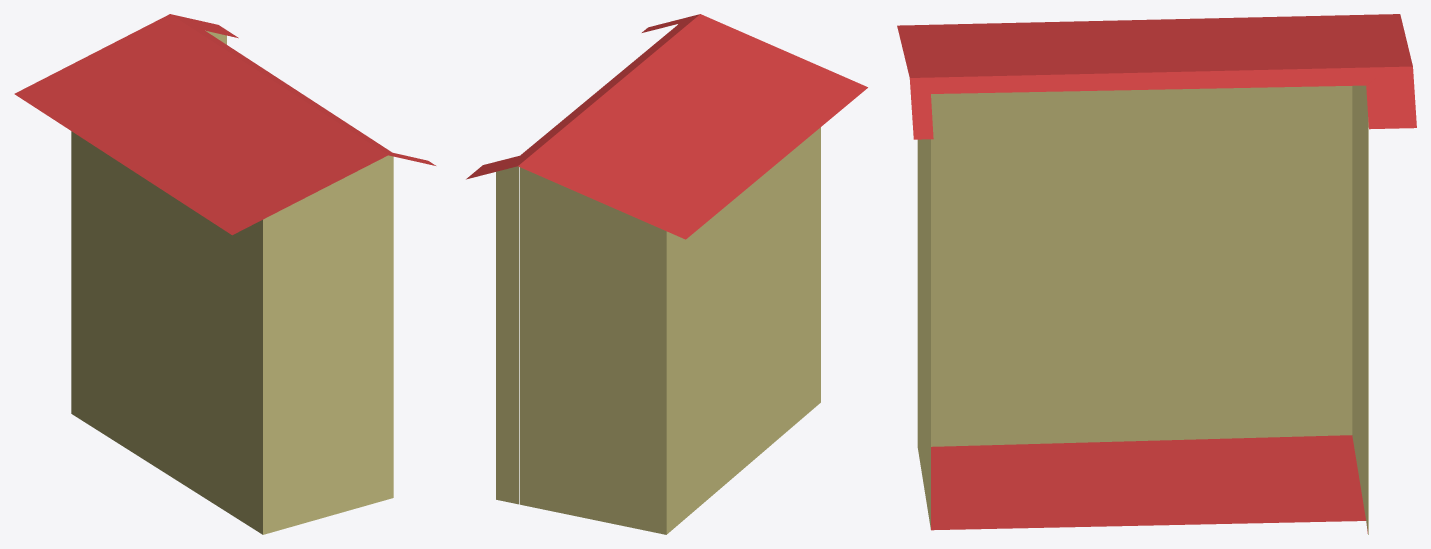
The picture shows the model from 3 angles, left to right: view 1: azimuth 30°, elevation 25°; view 2: azimuth 150°, elevation 25°; view 3: azimuth 270°, elevation 25°; orthographic projection. The views are drawn at different scales.
Size of the model in its own units: 6.18 by 9.58 by 9.04.
